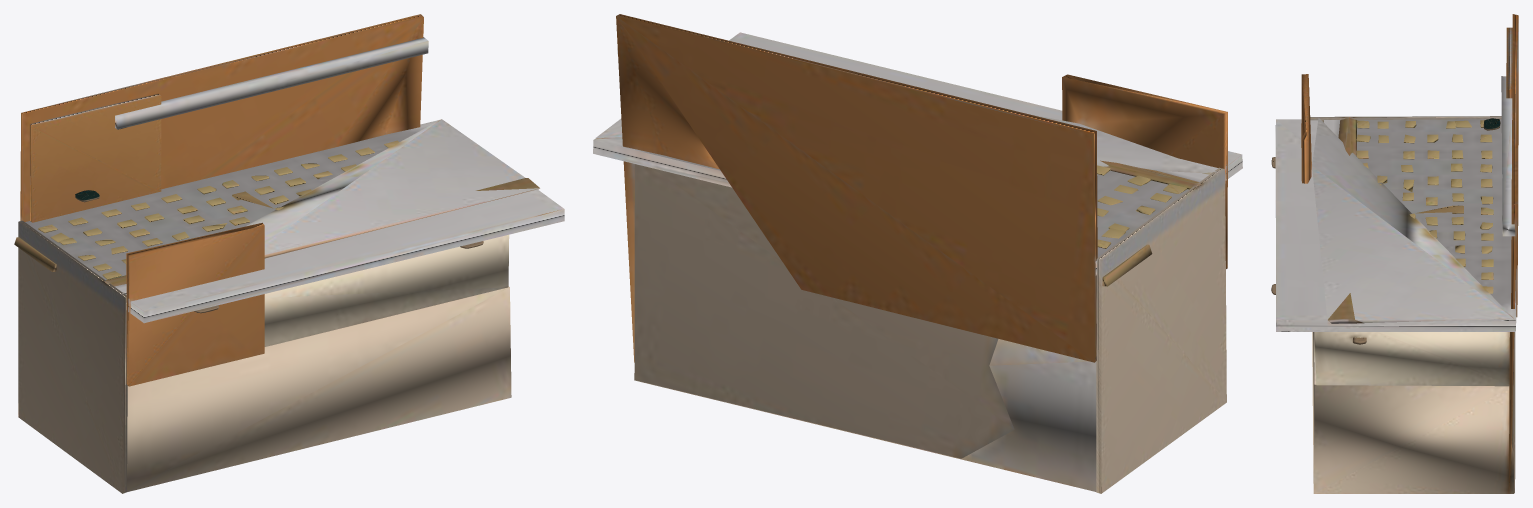
File: fixture.counter.glb
The picture shows the model from 3 angles, left to right: view 1: azimuth 30°, elevation 25°; view 2: azimuth 150°, elevation 25°; view 3: azimuth 270°, elevation 25°; orthographic projection. The views are drawn at different scales.
Visible parts, largest first — view 1: geometry_0; view 2: geometry_0; view 3: geometry_0.
Boxes of the visible parts, x1,y1,x2,y2 form: geometry_0: (14, 14, 564, 493); geometry_0: (593, 14, 1242, 493); geometry_0: (1271, 14, 1518, 493).
Bounding box in the file's own units: 0.9922 × 0.6677 × 0.5052.
1 material, 1 textured.
